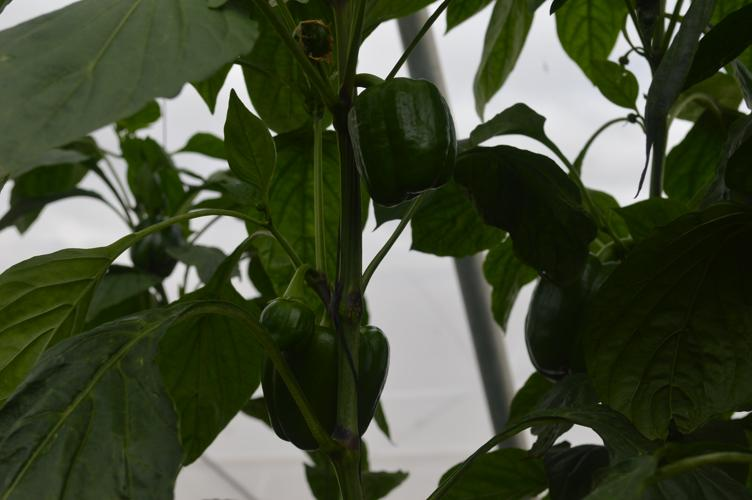BellPepper: (255, 327, 391, 438), (344, 75, 462, 199), (515, 260, 595, 374), (130, 216, 188, 276), (260, 298, 312, 352)
